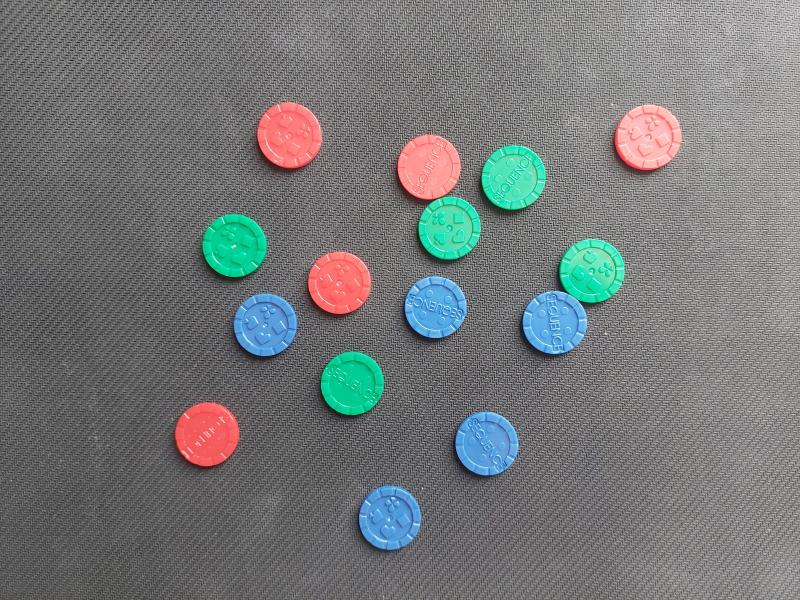Green_Token: (241, 94, 332, 180)
